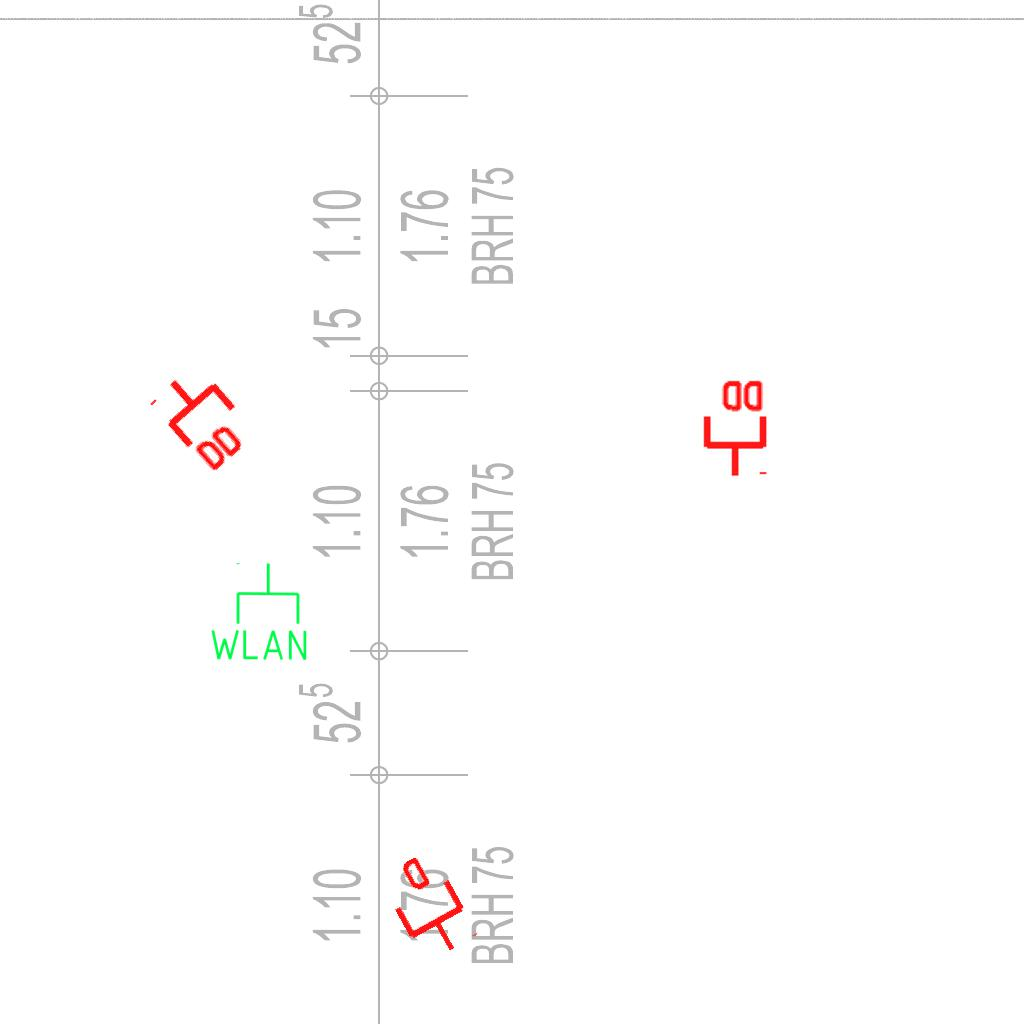Datenanschluss_einfach: (374, 846, 483, 968)
Datenanschluss_zweifach: (145, 355, 266, 480), (699, 376, 768, 479)
WLAN: (206, 560, 311, 664)
